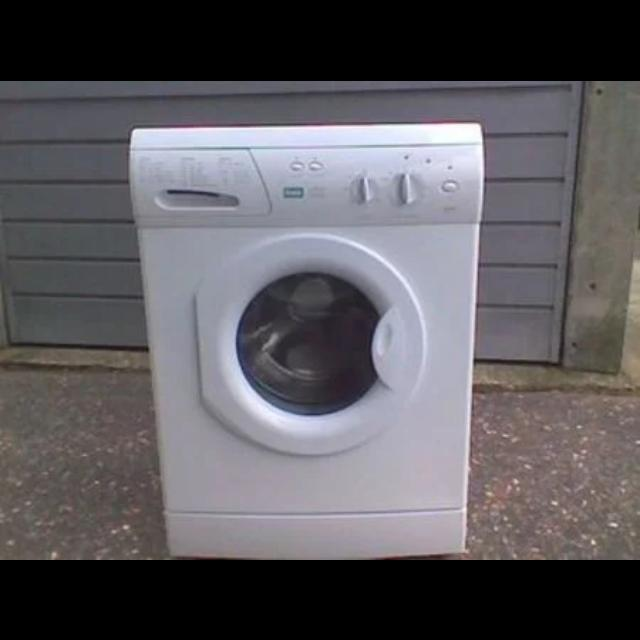Washing-Machine: (130, 128, 482, 550)
